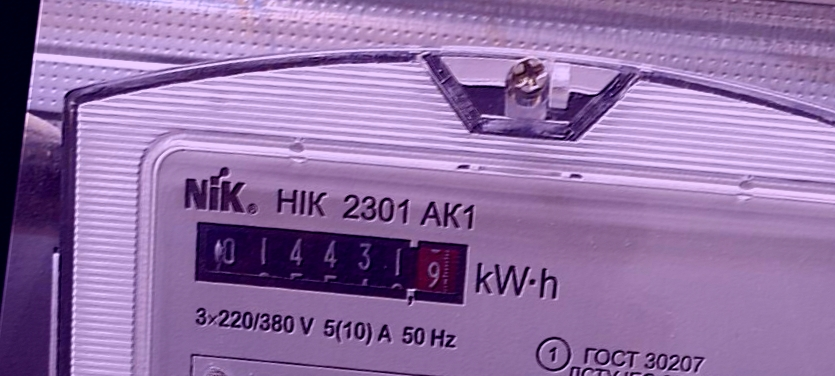0: (217, 233, 241, 268)
1: (254, 232, 276, 267), (390, 245, 407, 278)
3: (354, 240, 377, 274)
4: (285, 233, 310, 269), (320, 235, 342, 271)
9: (423, 257, 444, 290)
screen: (181, 202, 485, 324)
